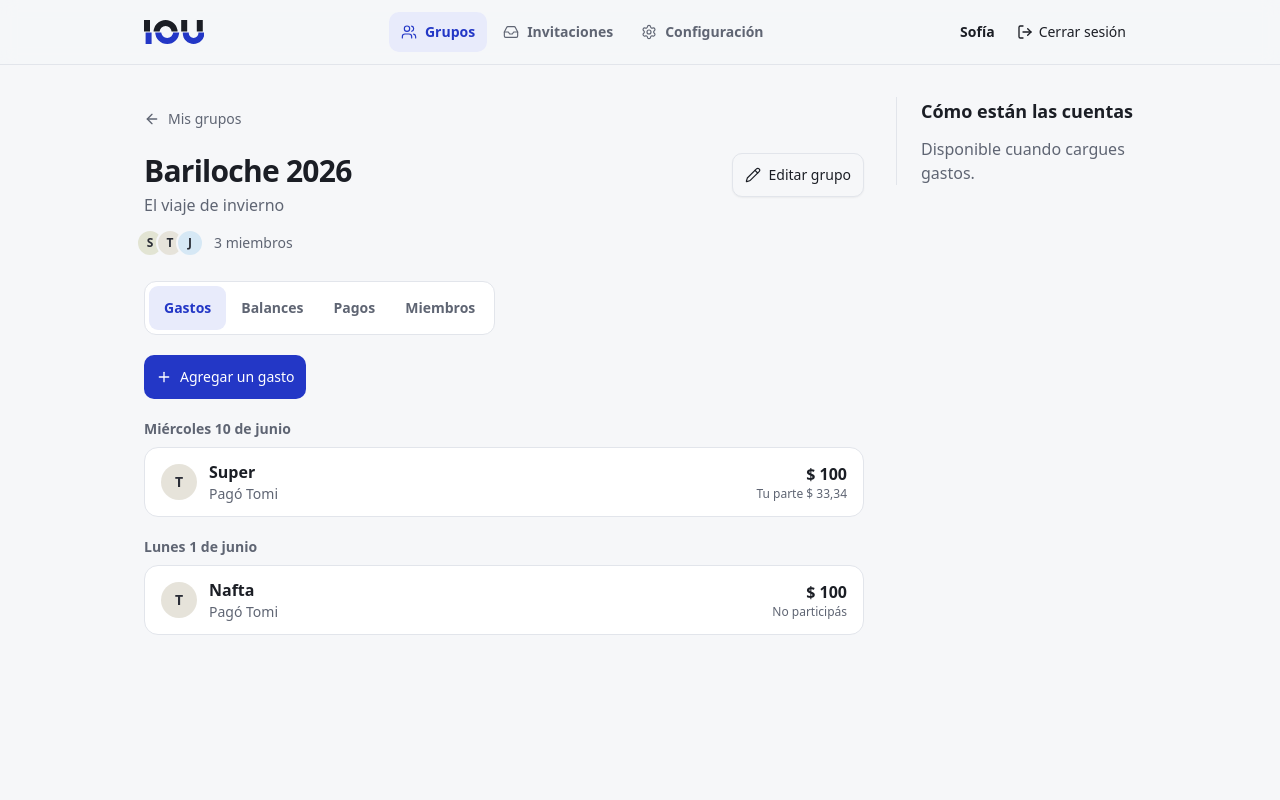
Test: Pestaña Gastos › lista por día con pagador, monto y mi parte; abre el detalle (CA-15.1, CA-16.1)
The width and height of the screenshot is (1280, 800).
Expected: the button "T Nafta Pagó Tomi $ 100 No participás" is shown, [145,566,863,634]
Step 1. Click the button "T Super Pagó Tomi $ 100 Tu parte $ 33,34" → (179, 482), box [145,448,863,516]
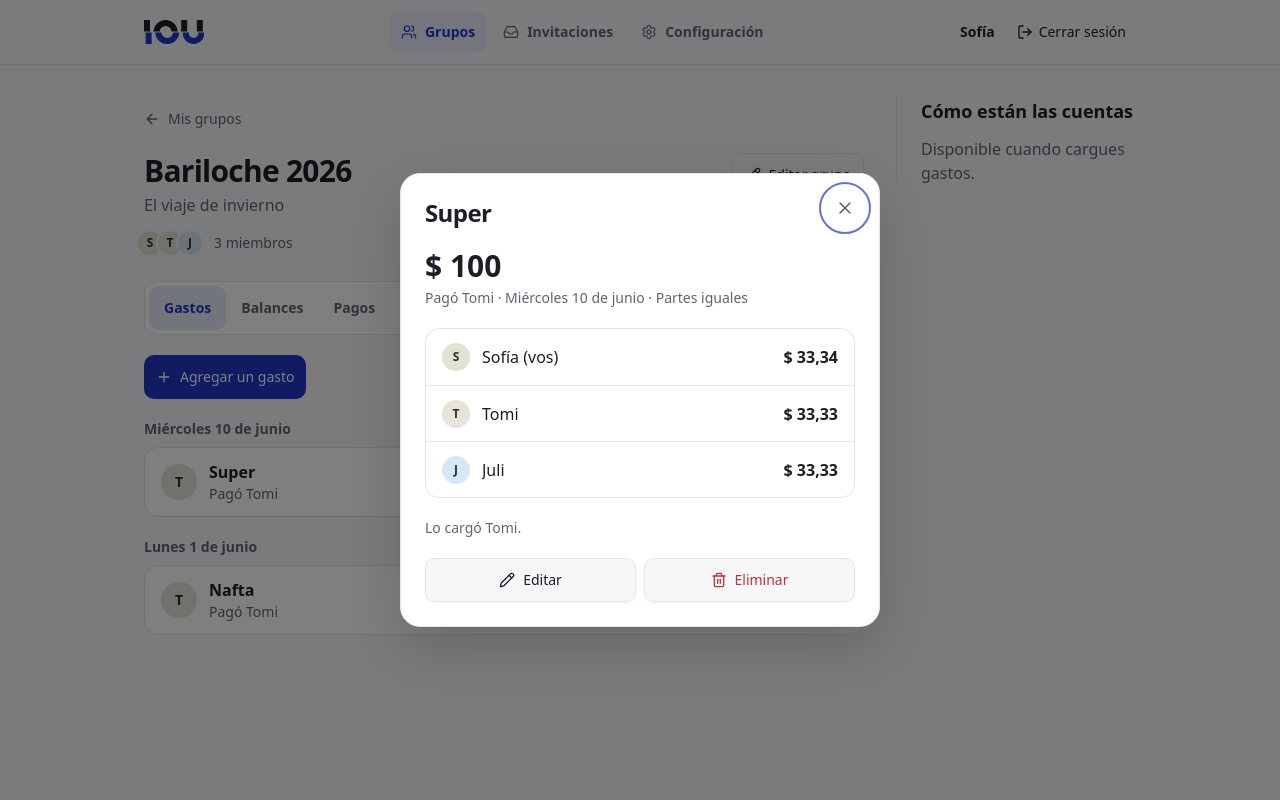
Now the text "Partes iguales" is shown, box [656,288,748,307]
Now the text "$ 33,33" is shown 2 times, box [784,402,838,426]; [784,458,838,482]
